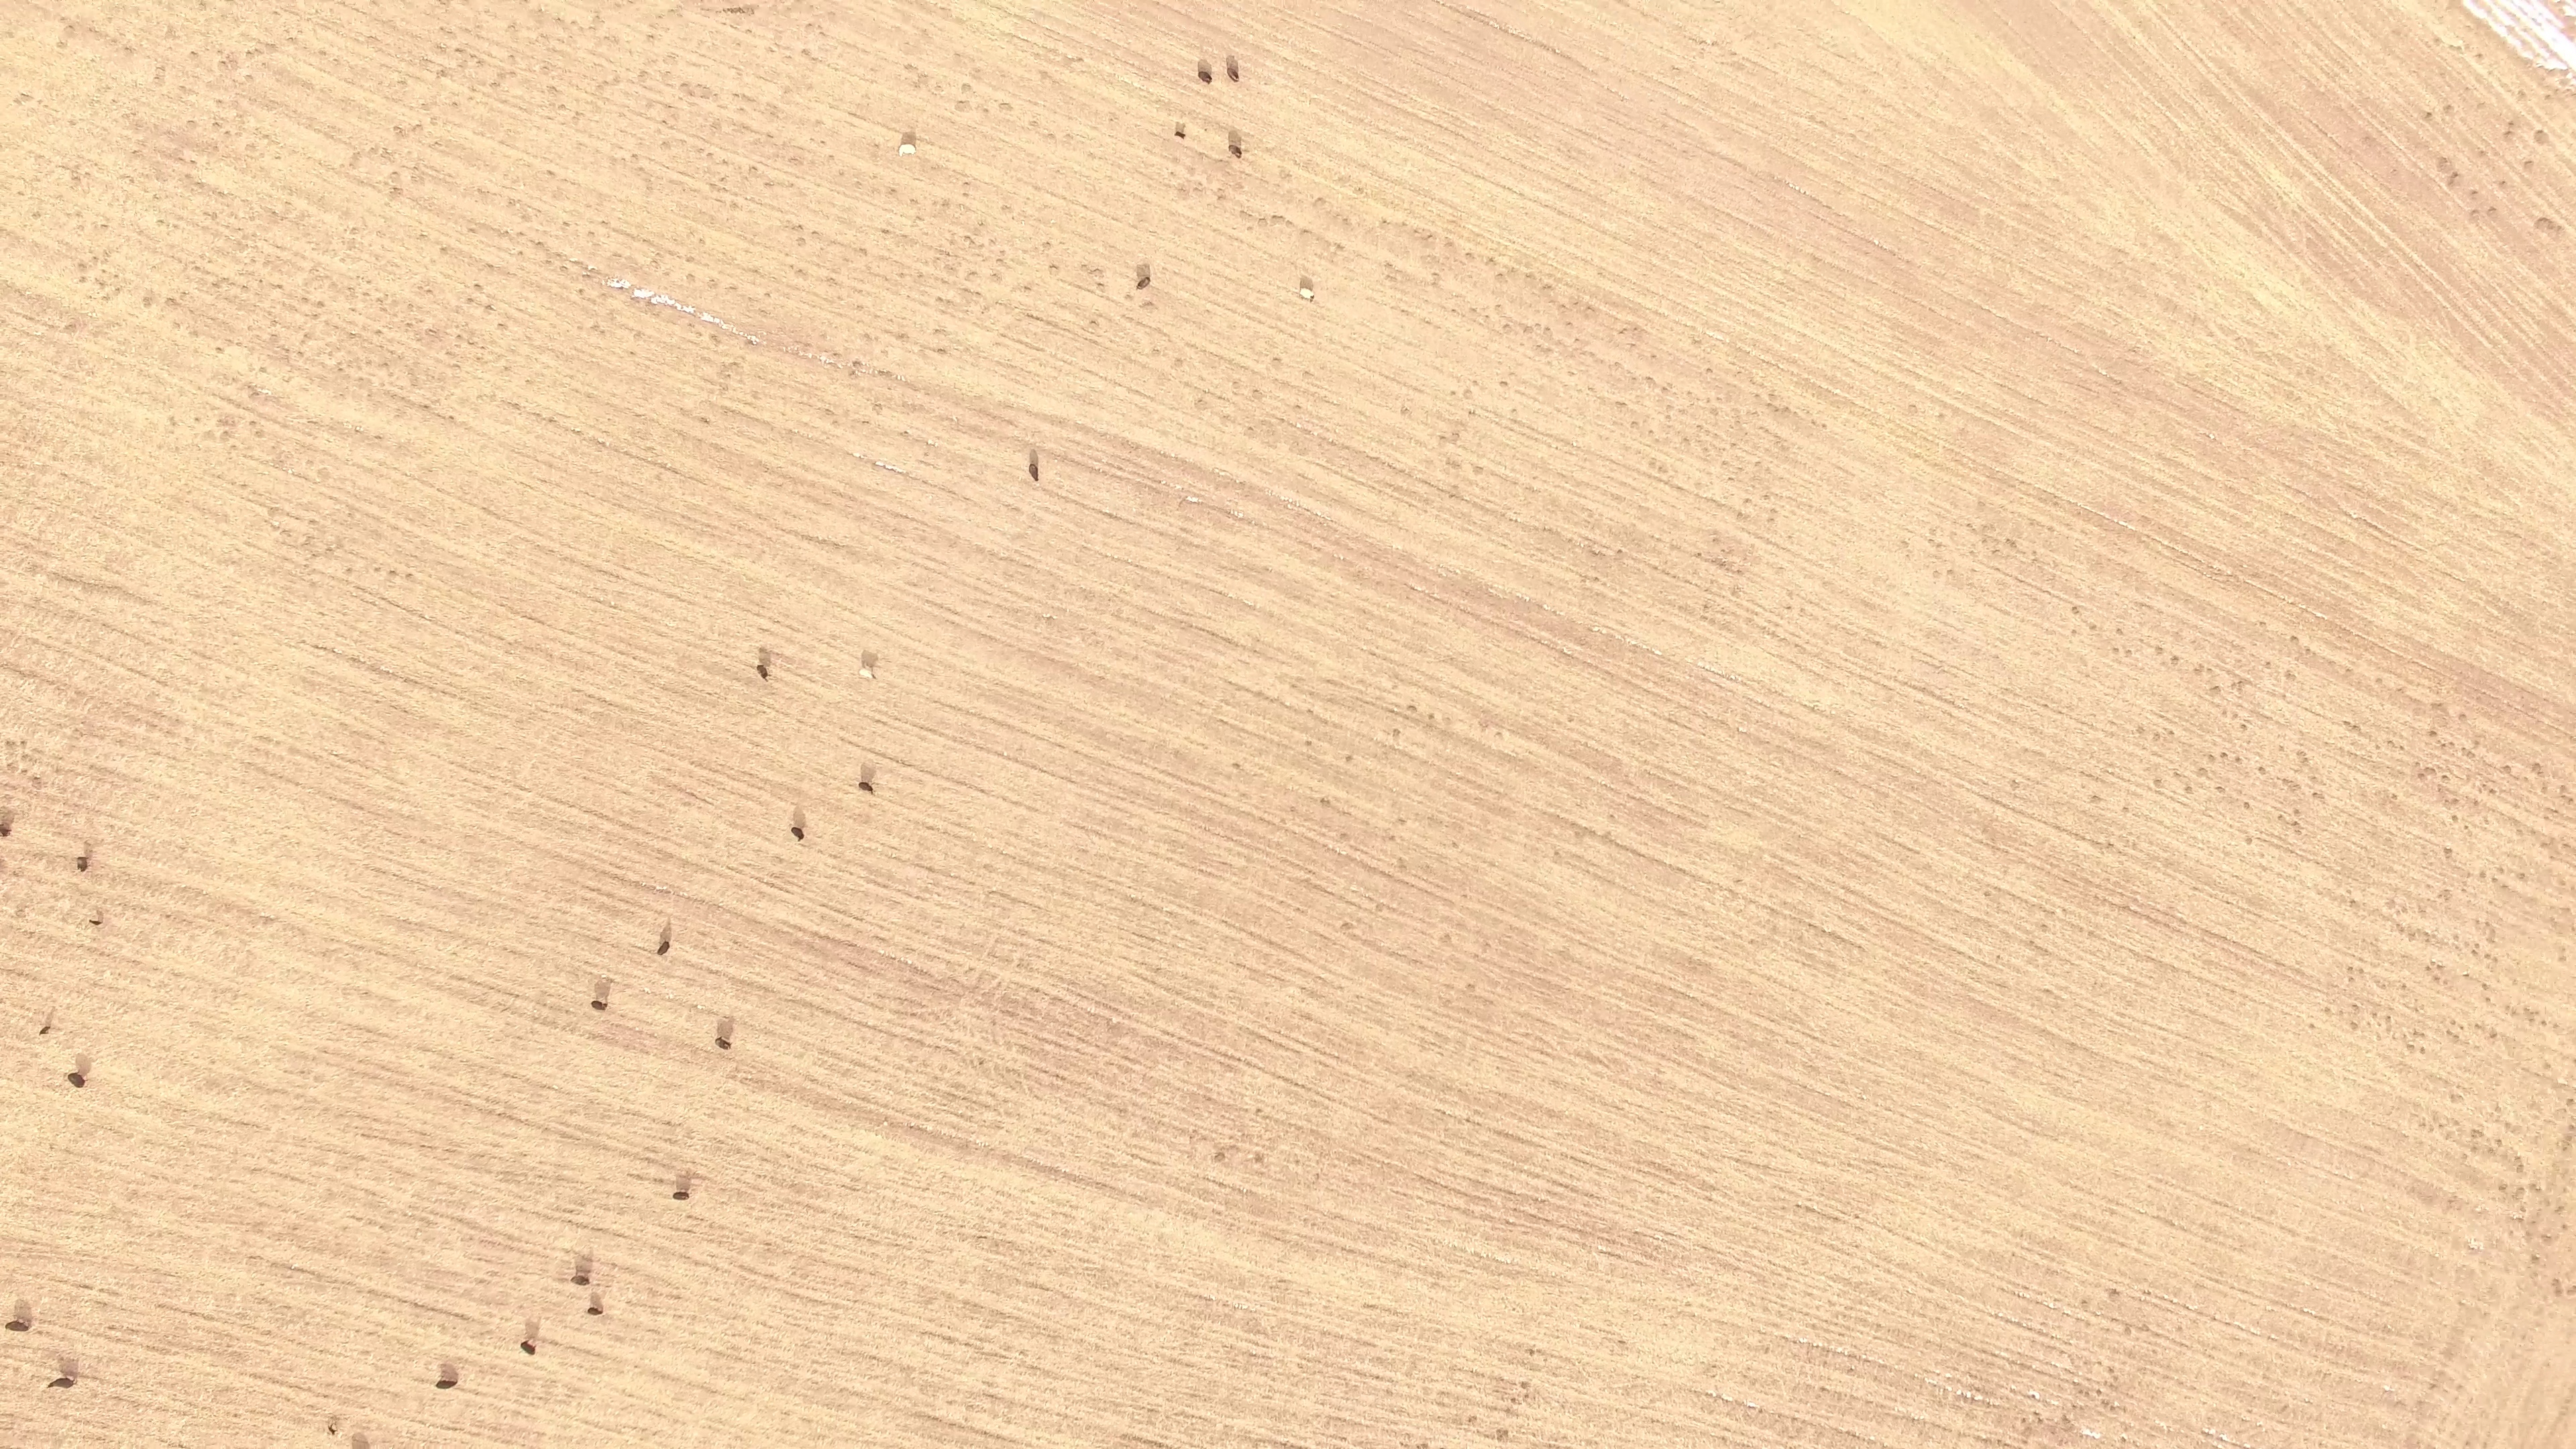sheep: (62, 1069, 93, 1091), (45, 1374, 81, 1393), (2, 1317, 34, 1335), (517, 1336, 541, 1358), (72, 853, 93, 879), (431, 1375, 462, 1393), (567, 1271, 596, 1289), (653, 936, 674, 959), (751, 661, 773, 682), (1, 819, 19, 843), (1024, 459, 1042, 484), (787, 822, 808, 843), (896, 139, 919, 160), (712, 1033, 737, 1053), (857, 663, 879, 683), (1195, 66, 1216, 87), (1134, 274, 1154, 293), (584, 1303, 606, 1319), (669, 1187, 692, 1203), (855, 779, 877, 795), (1298, 284, 1318, 303), (1224, 63, 1242, 84), (588, 998, 611, 1014), (1227, 142, 1244, 160), (1171, 125, 1188, 144), (37, 1023, 54, 1038), (89, 917, 104, 929), (325, 1424, 337, 1436)
unknown: (349, 1433, 373, 1449), (594, 979, 613, 1000), (631, 287, 654, 301), (1493, 1426, 1511, 1444), (2447, 169, 2461, 187), (1212, 1149, 1228, 1163), (2106, 1286, 2120, 1299), (1803, 1203, 1817, 1216), (2440, 845, 2455, 857), (728, 5, 744, 16), (1414, 1440, 1431, 1449), (2080, 1427, 2093, 1438), (1518, 1379, 1531, 1392), (2553, 1286, 2565, 1298), (1252, 1154, 1265, 1165), (2414, 770, 2427, 782), (611, 280, 623, 292), (1508, 1395, 1519, 1406), (411, 1299, 421, 1311), (2528, 1252, 2541, 1264), (2495, 1183, 2508, 1193), (2449, 812, 2460, 824), (2471, 798, 2481, 809), (2530, 760, 2543, 771), (2427, 728, 2439, 739), (386, 568, 398, 578), (850, 358, 860, 370), (665, 297, 677, 307), (2035, 1416, 2046, 1426), (329, 1413, 340, 1424), (2107, 1403, 2118, 1413), (2033, 1391, 2043, 1401), (1521, 1391, 1532, 1401), (2094, 1387, 2104, 1397), (1526, 1346, 1538, 1357), (2079, 1297, 2089, 1307), (2563, 1132, 2575, 1144), (2565, 1096, 2575, 1108), (2307, 1021, 2317, 1031), (2479, 981, 2489, 991), (2434, 962, 2445, 973), (1341, 920, 1351, 930), (96, 910, 106, 920), (2291, 806, 2302, 817), (1992, 797, 2002, 807), (2184, 784, 2194, 794), (2256, 764, 2266, 774), (2233, 755, 2243, 765), (1343, 753, 1354, 764), (2219, 750, 2230, 760), (1303, 739, 1314, 749), (3, 739, 13, 749), (2166, 728, 2176, 738), (2342, 718, 2353, 729), (1426, 711, 1436, 722), (1409, 703, 1419, 713), (349, 655, 359, 665), (2170, 653, 2182, 663), (2288, 633, 2298, 643), (1944, 567, 1954, 577), (252, 389, 262, 399), (881, 369, 892, 380), (898, 331, 908, 341), (62, 323, 72, 333), (881, 227, 891, 237), (2554, 223, 2564, 233), (2546, 223, 2557, 233), (2506, 119, 2516, 129), (2424, 109, 2434, 121), (2542, 92, 2553, 103), (2563, 13, 2575, 23), (2092, 1431, 2103, 1441), (1503, 1405, 1513, 1417), (744, 337, 756, 347), (2219, 1432, 2229, 1442), (2106, 1366, 2116, 1376), (1845, 1366, 1855, 1376), (451, 1310, 462, 1320), (656, 1176, 667, 1186), (999, 1152, 1009, 1162), (1254, 1106, 1264, 1116), (2489, 1030, 2499, 1040), (1109, 1022, 1119, 1032), (2383, 1013, 2394, 1023), (2423, 964, 2433, 974), (2345, 963, 2355, 973), (2477, 870, 2487, 880), (925, 865, 935, 875), (2300, 755, 2311, 765), (1615, 547, 1625, 557), (511, 400, 521, 411), (686, 305, 696, 315), (482, 303, 492, 313), (645, 299, 655, 309), (623, 279, 633, 289), (1334, 241, 1344, 252), (1445, 239, 1455, 250), (2540, 215, 2550, 225), (2535, 127, 2546, 137), (390, 123, 401, 133), (2061, 1415, 2071, 1425), (2450, 796, 2460, 806), (2153, 776, 2163, 786), (2153, 643, 2163, 653), (1695, 549, 1705, 559), (1735, 509, 1745, 519), (1292, 1443, 1305, 1449), (2571, 1283, 2576, 1293)
